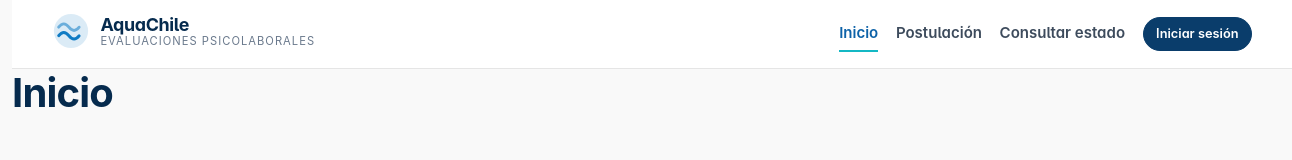
Test: Navbar › navega a la postulación al hacer clic y marca el enlace activo
Click the link with class "enlace-nav" showing "Postulación".
click(939, 32)  # box [896,23,982,42]
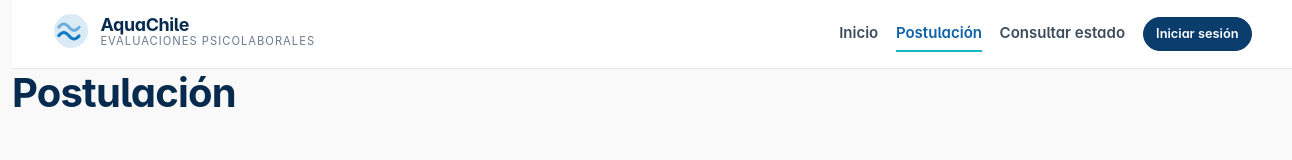
Expected: the link with class "enlace-nav" reads "Postulación", [896,16,982,52]
Expected: the heading "Postulación" is shown, [12,68,236,117]
